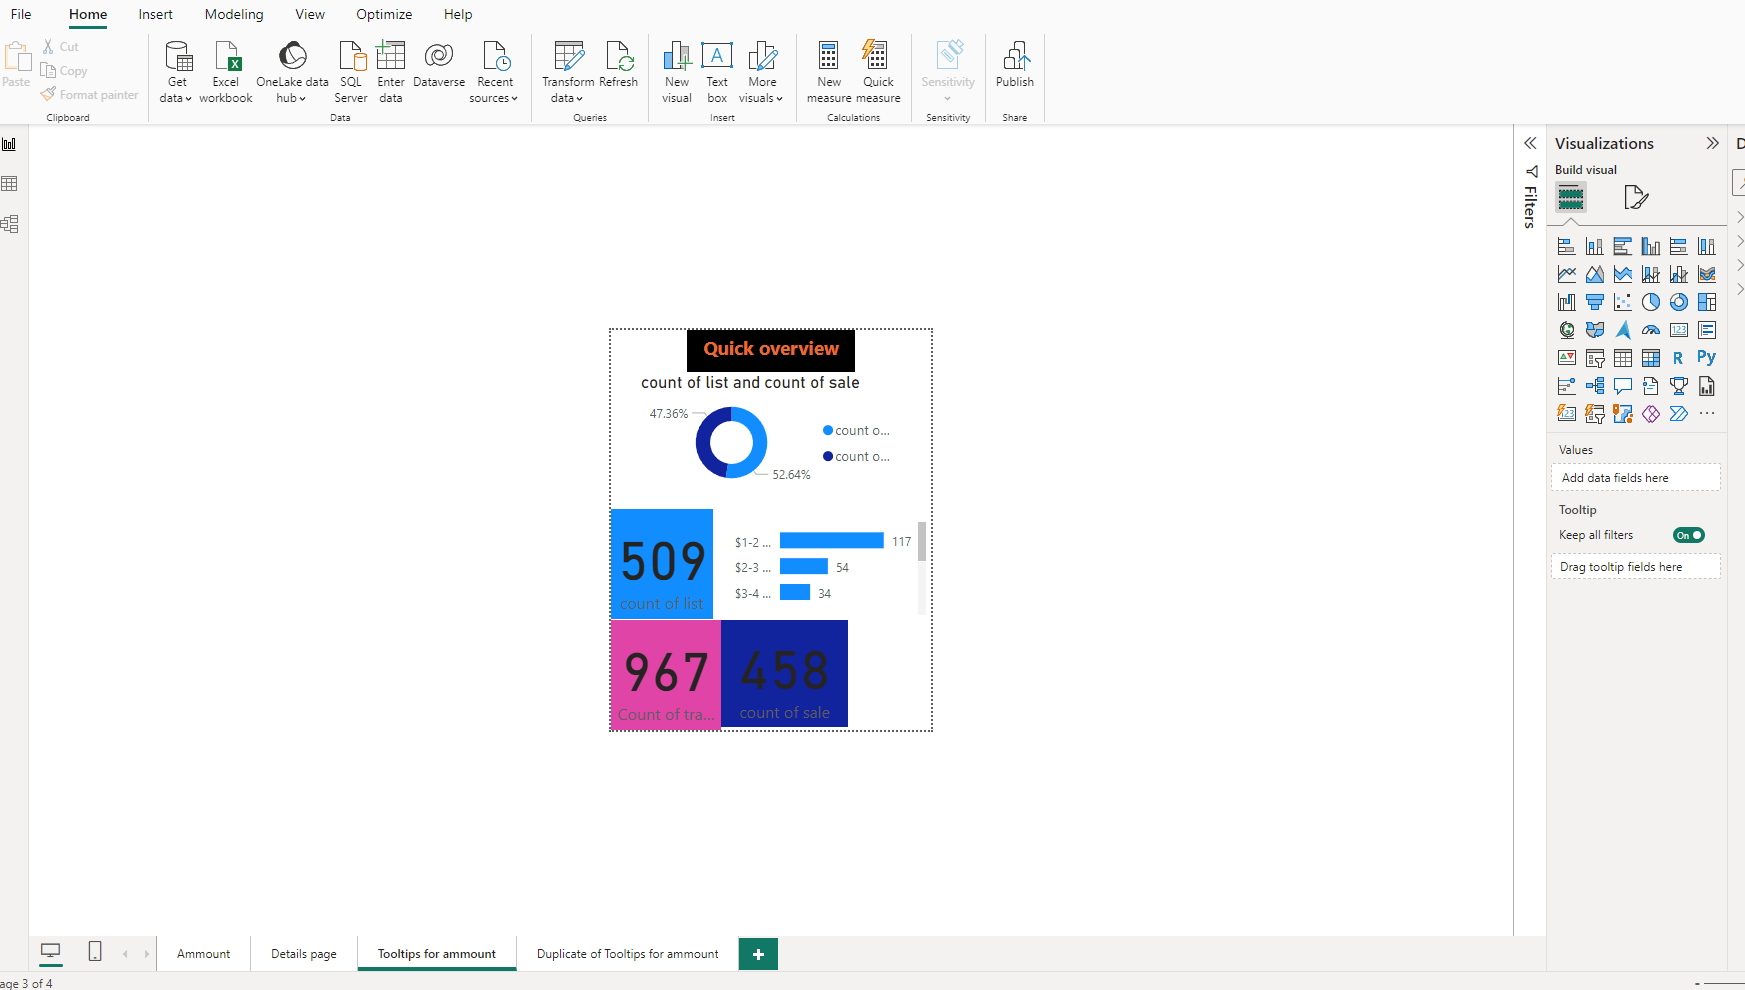

The dashboard page shown, as its layout file describes it:
{"tool":"powerbi","page":{"name":"Tooltips for ammount","canvas":[320,400],"ordinal":2},"visuals":[{"type":"card","fields":{"Values":["TMeasures.Count of transaction"]},"box":[0,290,110,110],"z":0},{"type":"card","fields":{"Values":["TMeasures.count of list"]},"box":[0,179,102,110],"z":1000},{"type":"card","fields":{"Values":["TMeasures.count of sale"]},"box":[110,290,127,107],"z":2000},{"type":"textbox","box":[76,0,168,42],"z":3000},{"type":"barChart","fields":{"Category":["Closing (T).Range"],"Y":["TMeasures.count of list"]},"box":[102.1,179.3,217.9,110.7],"z":4000},{"type":"donutChart","fields":{"Y":["TMeasures.count of list","TMeasures.count of sale"]},"box":[25,42.1,269.3,122.1],"z":5000}]}

Visuals, with their boxes on the page's 320x400 design canvas (x1, y1, x2, y2). These are canvas units, not pixel positions in the 1745x990 screenshot, which may show the page scaled, cropped or inside an application window:
card - TMeasures.Count of transaction: 0:290:110:400
card - TMeasures.count of list: 0:179:102:289
card - TMeasures.count of sale: 110:290:237:397
textbox: 76:0:244:42
barChart - Closing (T).Range x TMeasures.count of list: 102:179:320:290
donutChart - TMeasures.count of list x TMeasures.count of sale: 25:42:294:164
